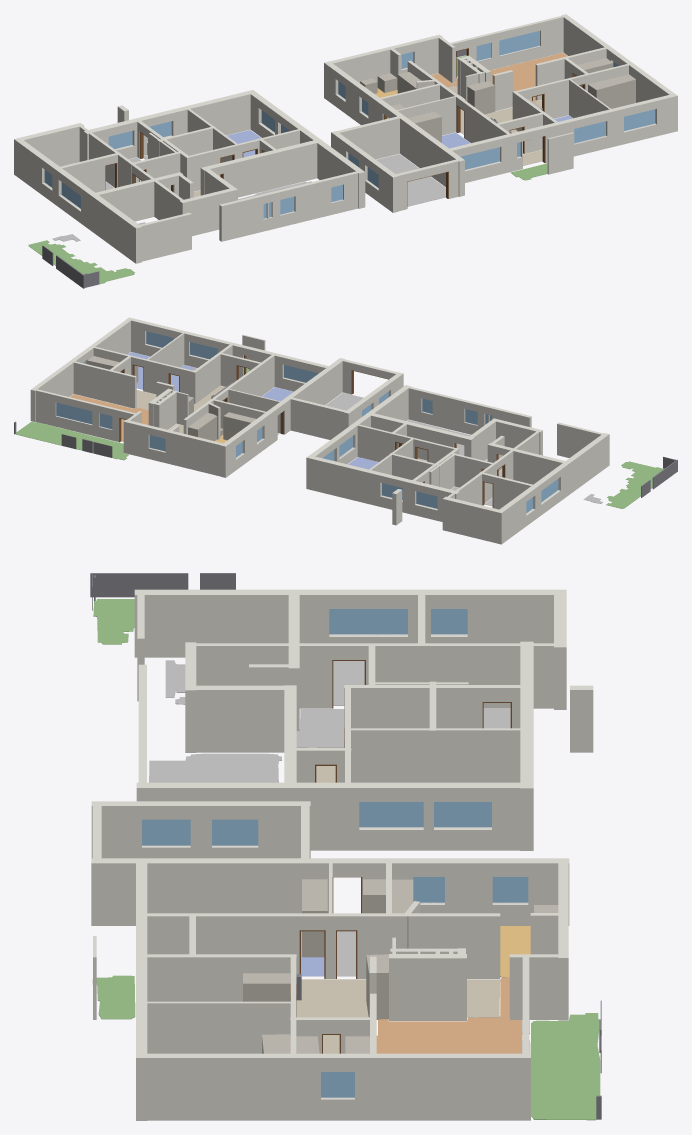
3 renders of one model, top to bottom at view 1: azimuth 30°, elevation 25°; view 2: azimuth 150°, elevation 25°; view 3: azimuth 270°, elevation 25°, orthographic. The views are drawn at different scales.
Parts seen in each view (by area): view 1: walls, floor_16_Garage, furniture_6_closet, floor_21_Outdoor, floor_1_Living_Room, railings, furniture_2_closet, window_29, furniture_5_closet, window_0, floor_2_Entry, window_1 (+1 smaller); view 2: walls, floor_20_Outdoor, railings, floor_21_Outdoor, furniture_0_closet, furniture_1_closet, floor_2_Entry, window_29, floor_1_Living_Room, window_0, floor_16_Garage; view 3: walls, floor_20_Outdoor, floor_1_Living_Room, floor_2_Entry, floor_24_Garage, railings, window_15, floor_11_Undefined, floor_21_Outdoor, window_20, floor_22_Outdoor, furniture_5_closet (+14 smaller).
Boxes of the visible parts, bbox=[...] form: walls: bbox=[14, 14, 677, 263]; floor_16_Garage: bbox=[376, 154, 445, 206]; furniture_6_closet: bbox=[588, 74, 635, 108]; floor_21_Outdoor: bbox=[28, 240, 134, 284]; floor_1_Living_Room: bbox=[431, 53, 567, 101]; railings: bbox=[42, 49, 511, 288]; furniture_2_closet: bbox=[467, 81, 495, 114]; window_29: bbox=[499, 31, 539, 55]; furniture_5_closet: bbox=[408, 111, 441, 142]; window_0: bbox=[460, 147, 499, 169]; floor_2_Entry: bbox=[448, 85, 541, 134]; window_1: bbox=[574, 121, 605, 143]; walls: bbox=[30, 317, 609, 544]; floor_20_Outdoor: bbox=[15, 422, 128, 460]; railings: bbox=[14, 382, 677, 497]; floor_21_Outdoor: bbox=[606, 461, 663, 508]; furniture_0_closet: bbox=[188, 413, 217, 440]; furniture_1_closet: bbox=[223, 412, 256, 440]; floor_2_Entry: bbox=[136, 386, 225, 433]; window_29: bbox=[56, 402, 92, 424]; floor_1_Living_Room: bbox=[70, 394, 148, 441]; window_0: bbox=[284, 365, 318, 382]; floor_16_Garage: bbox=[326, 392, 363, 410]; walls: bbox=[91, 589, 593, 1120]; floor_20_Outdoor: bbox=[530, 1013, 600, 1120]; floor_1_Living_Room: bbox=[376, 977, 522, 1053]; floor_2_Entry: bbox=[296, 979, 500, 1053]; floor_24_Garage: bbox=[149, 753, 281, 782]; railings: bbox=[90, 573, 601, 1119]; window_15: bbox=[329, 609, 407, 634]; floor_11_Undefined: bbox=[296, 709, 344, 747]; floor_21_Outdoor: bbox=[93, 599, 134, 644]; window_20: bbox=[359, 802, 423, 827]; floor_22_Outdoor: bbox=[92, 975, 135, 1019]; furniture_5_closet: bbox=[302, 879, 327, 957].
Bounding box in the file's own units: 48.43 × 2.72 × 19.94.
